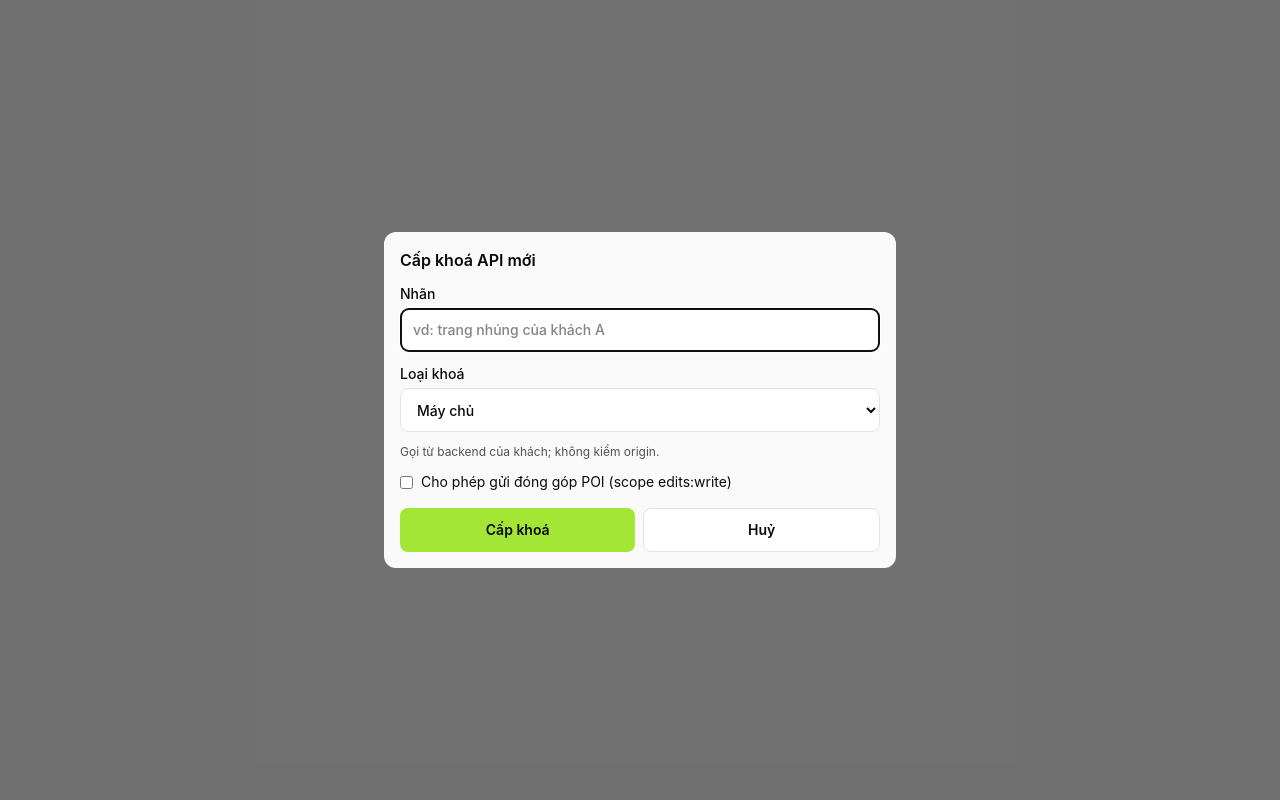
Test: NewKeyDialog › cấp khoá máy chủ: gửi đúng thân yêu cầu
Type "máy chủ nội bộ" into the field labelled "Nhãn".
click(640, 330); type("máy chủ nội bộ")  # box x1=400 y1=308 x2=880 y2=352
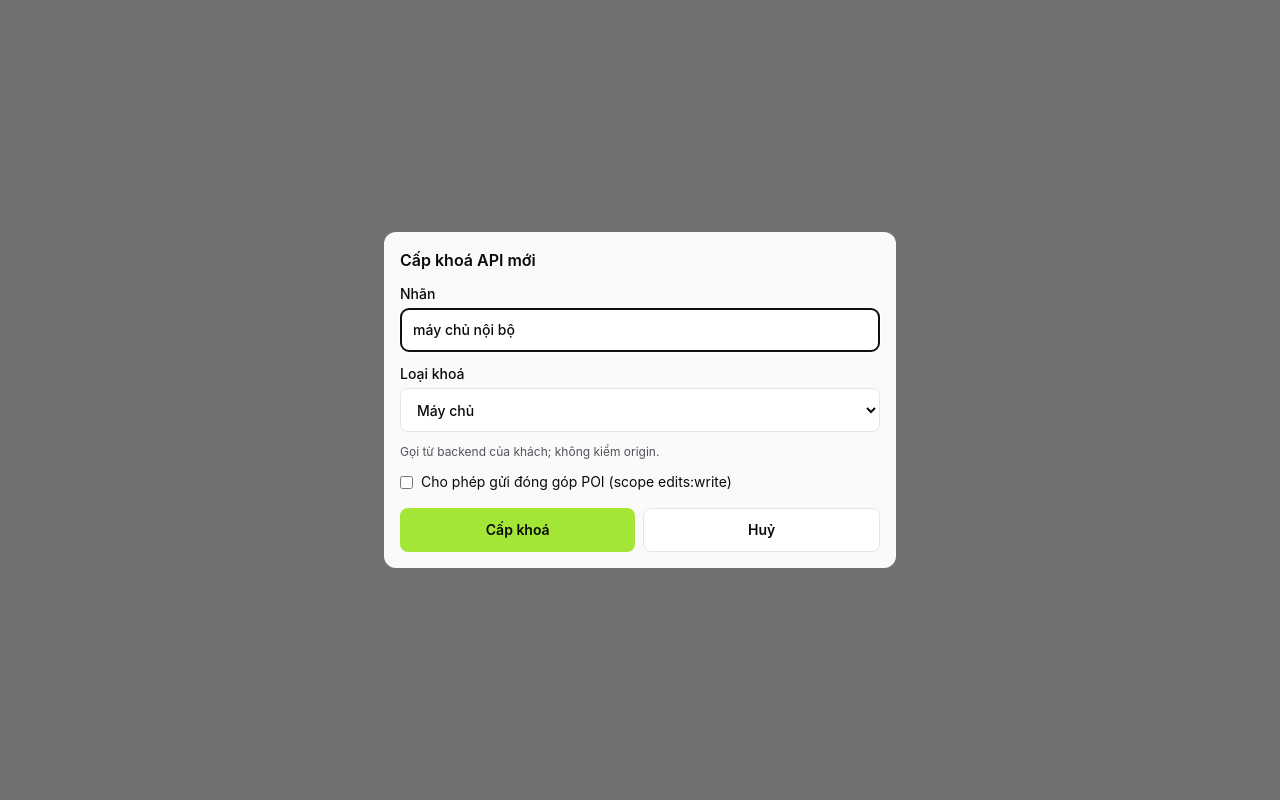
Click the button "Cấp khoá".
click(518, 530)  # box x1=400 y1=508 x2=636 y2=552
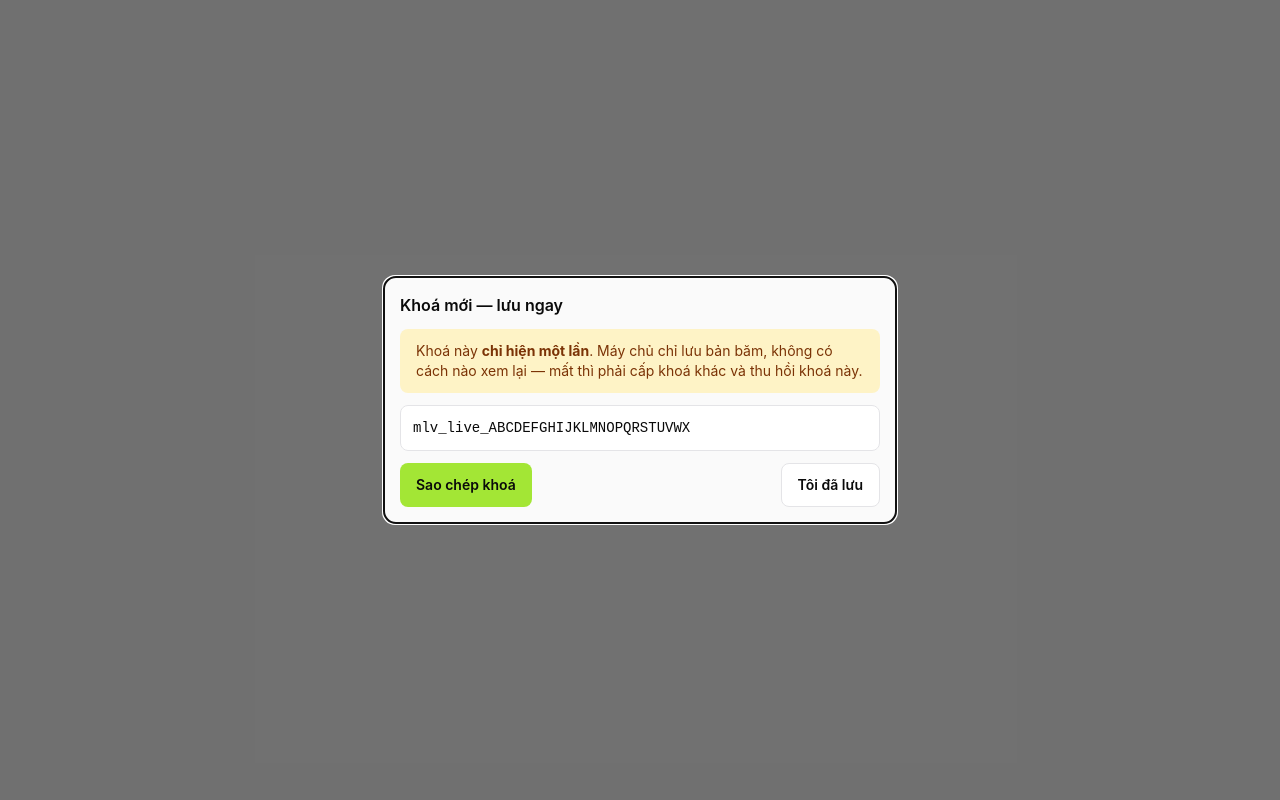
Expected: the button "mlv_live_ABCDEFGHIJKLMNOPQRSTUVWX" is shown, x1=400 y1=405 x2=880 y2=451
